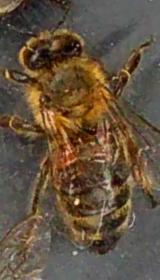varroa_mite: (51, 145, 81, 170)
